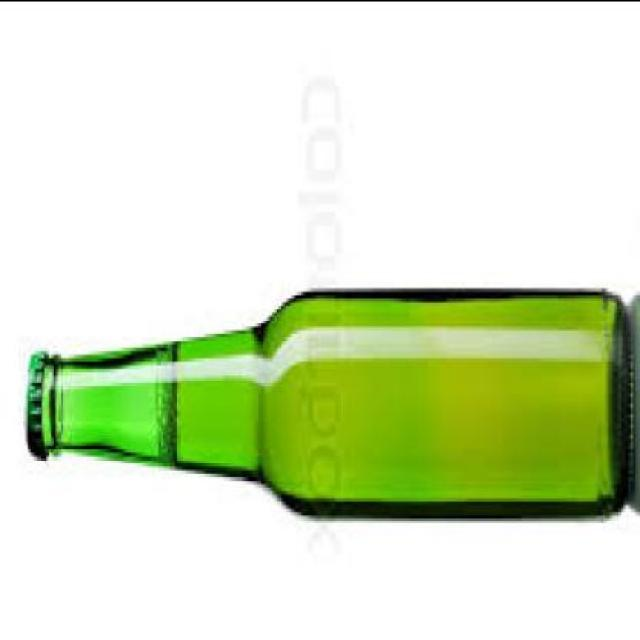GLASS: (39, 283, 636, 514)
METAL: (23, 346, 46, 451)
